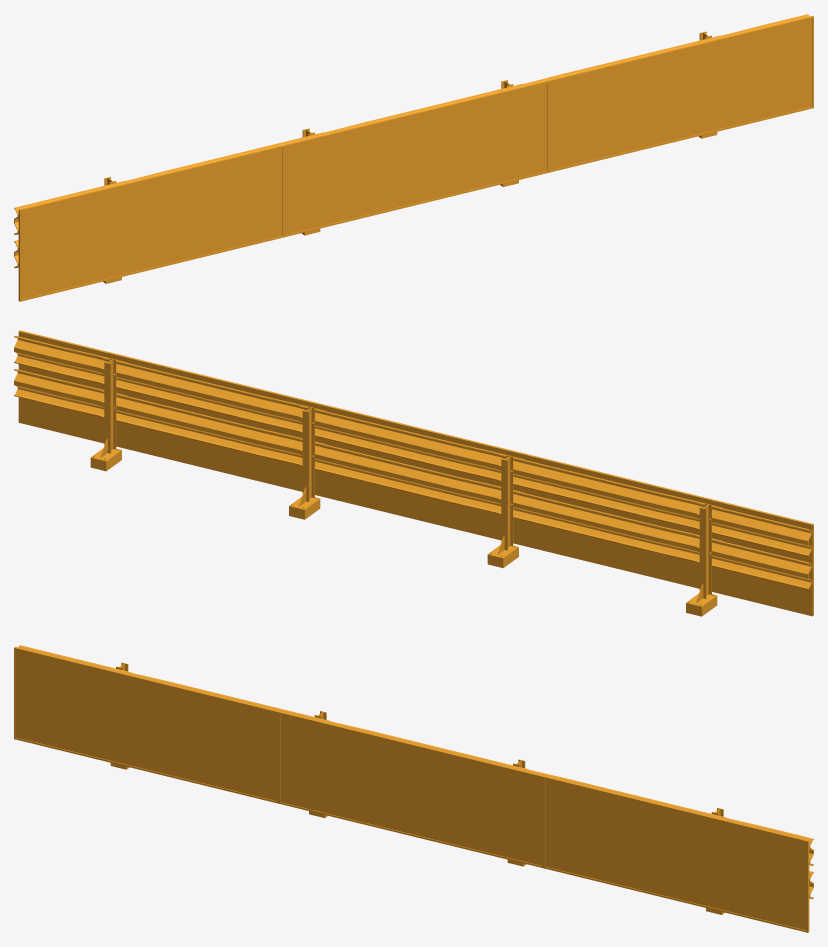
File: SM_Banner_WBeam_Fence_Color.fbx
3 views of the same model, one above another, from view 1: azimuth 30°, elevation 25°; view 2: azimuth 150°, elevation 25°; view 3: azimuth 330°, elevation 25° (orthographic).
Visible parts, largest first — view 1: SM_Banner_Wbeam_Fence_Color; view 2: SM_Banner_Wbeam_Fence_Color; view 3: SM_Banner_Wbeam_Fence_Color.
Boxes of the visible parts, x1=… form: SM_Banner_Wbeam_Fence_Color: x1=14, y1=14, x2=813, y2=301; SM_Banner_Wbeam_Fence_Color: x1=14, y1=330, x2=813, y2=616; SM_Banner_Wbeam_Fence_Color: x1=14, y1=645, x2=813, y2=932.
Bounding box in the file's own units: 10 × 1.2 × 0.4539.
